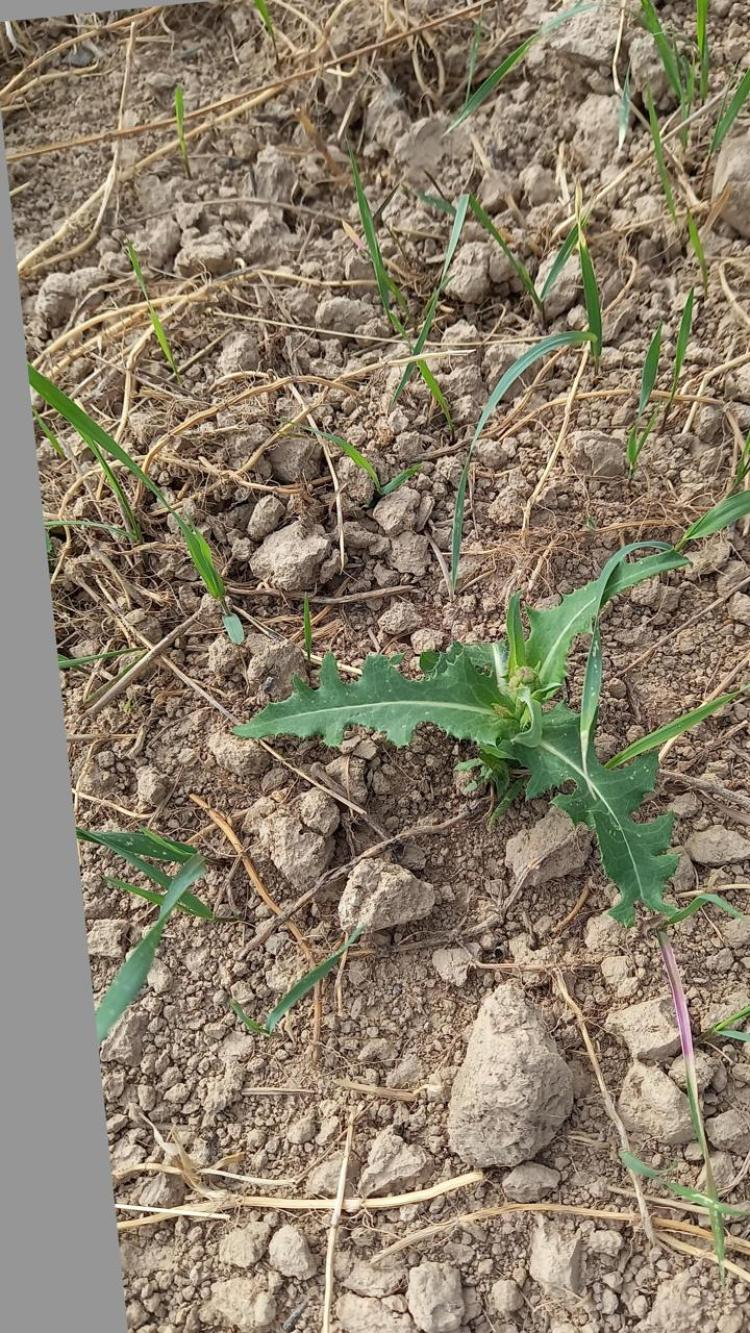bodyak: (260, 558, 710, 898)
